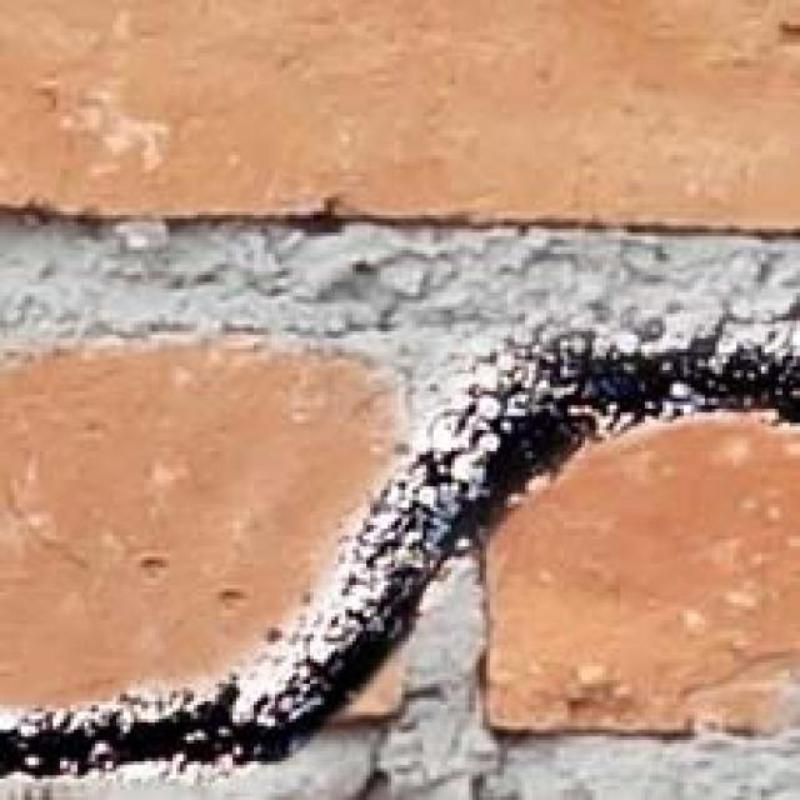crack: (0, 349, 800, 782)
